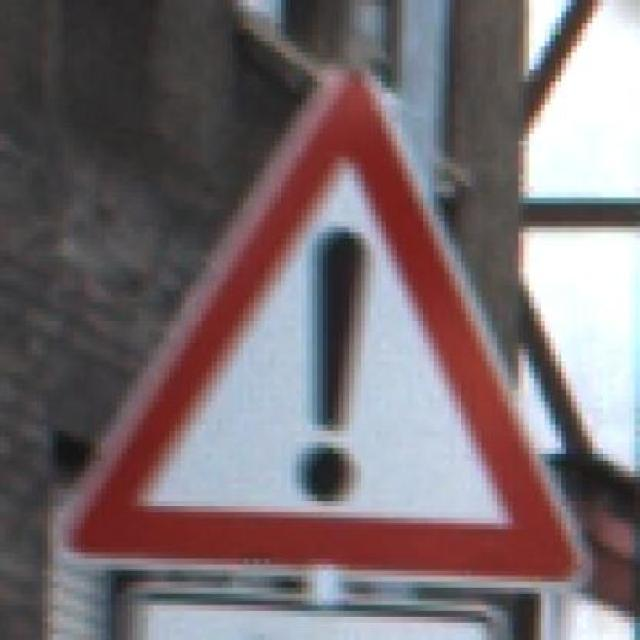Attention Please-: (37, 40, 603, 617)
